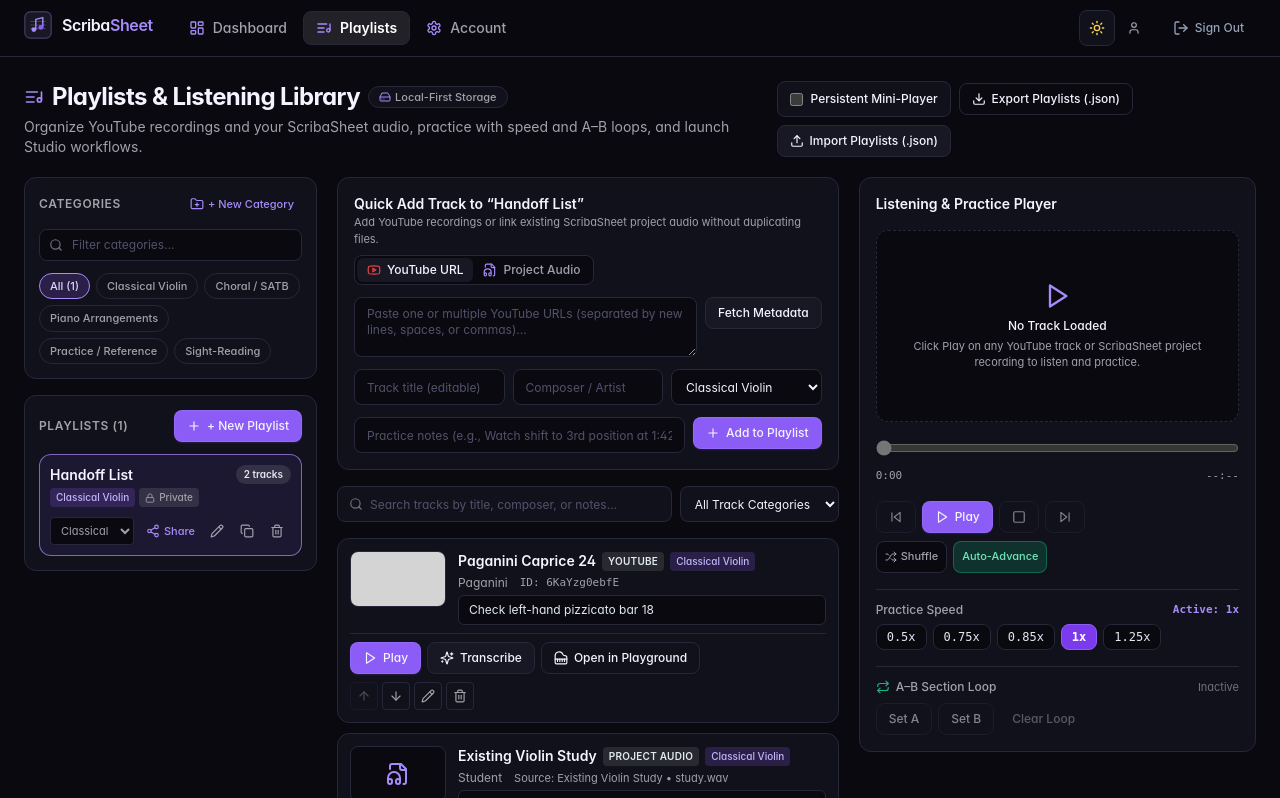
Test: Playlists & Listening Library › hands off tracks cleanly to New Transcription (with honest YouTube limitation) and MIDI Playground
Later steps or results of the test are not shown.
What coordinates should you click on to do the following:
click the button with test id "transcribe-track-btn-tr-h-yt"
I would click on:
 (481, 658)
Its box is [427,642,535,674].
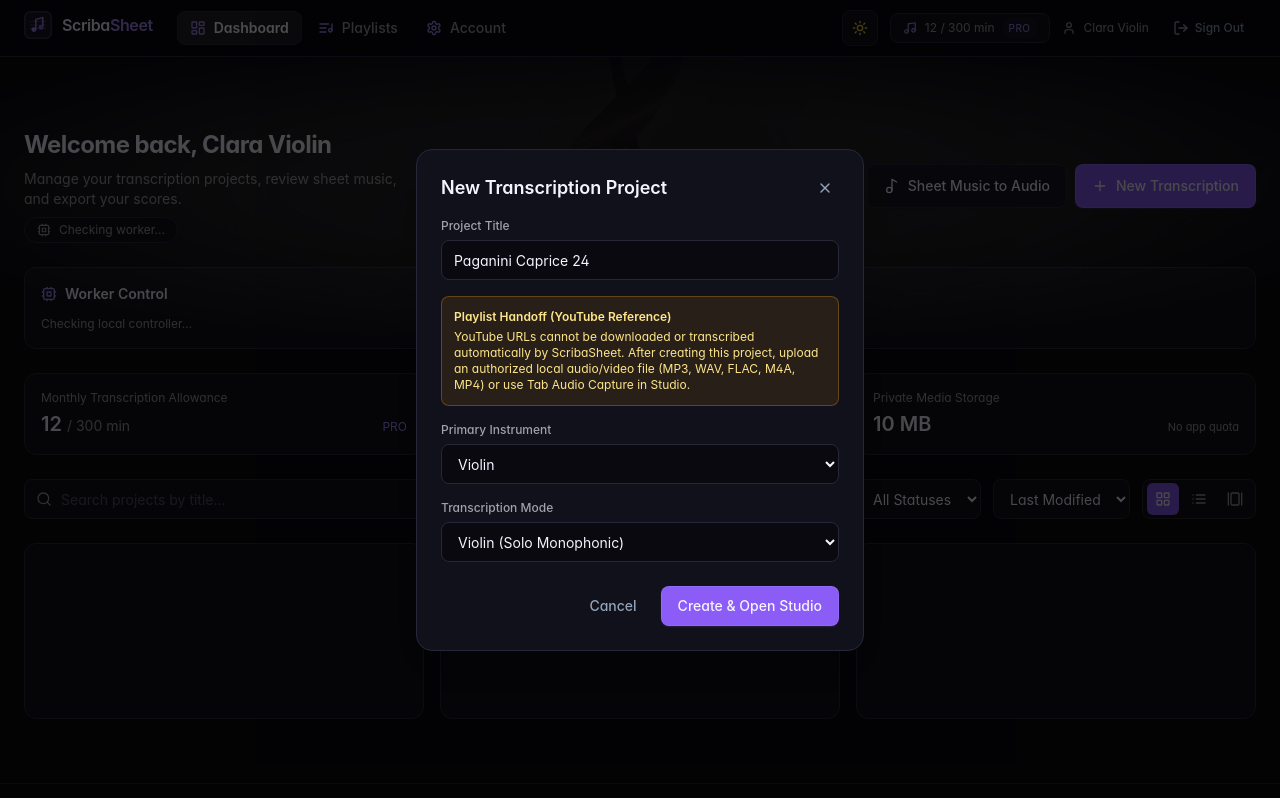
Check: the heading "New Transcription Project" is shown, box [441,174,667,202]
Check: the field showing "Paganini Caprice 24" is shown, box [441,240,839,280]
Check: the element with test id "dashboard-playlist-handoff-notice" shows "YouTube URLs cannot be downloaded or transcribed automatically", box [454,329,818,392]
